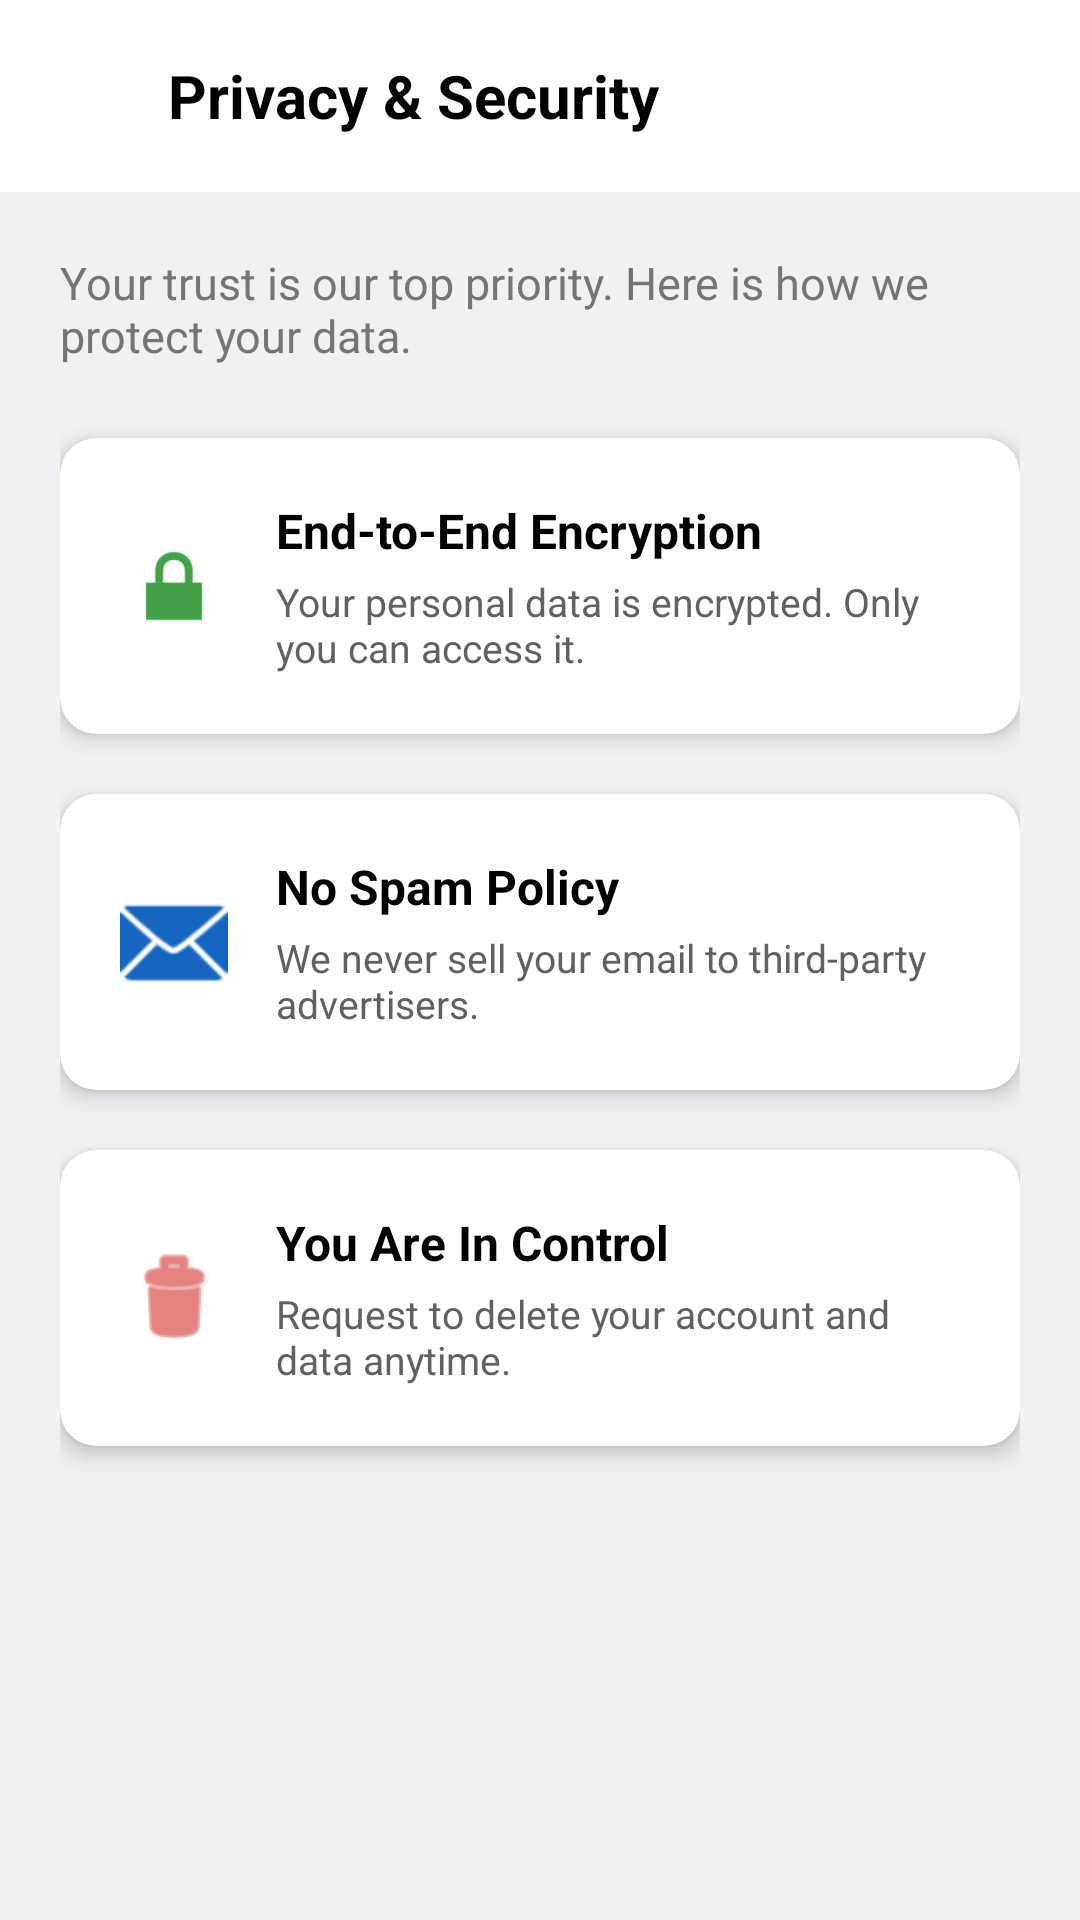

Named icons in this screenshot (1080 x 1920) and their bounding boxes, (x1, y1, x2, y2):
lock: (145, 551, 203, 621)
